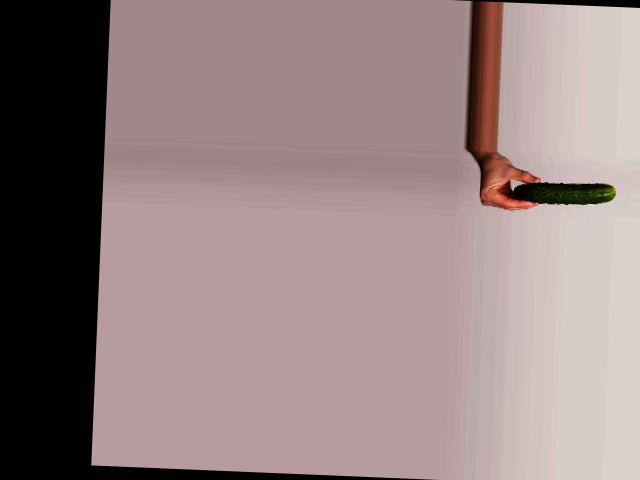cucumber: (513, 181, 615, 206)
